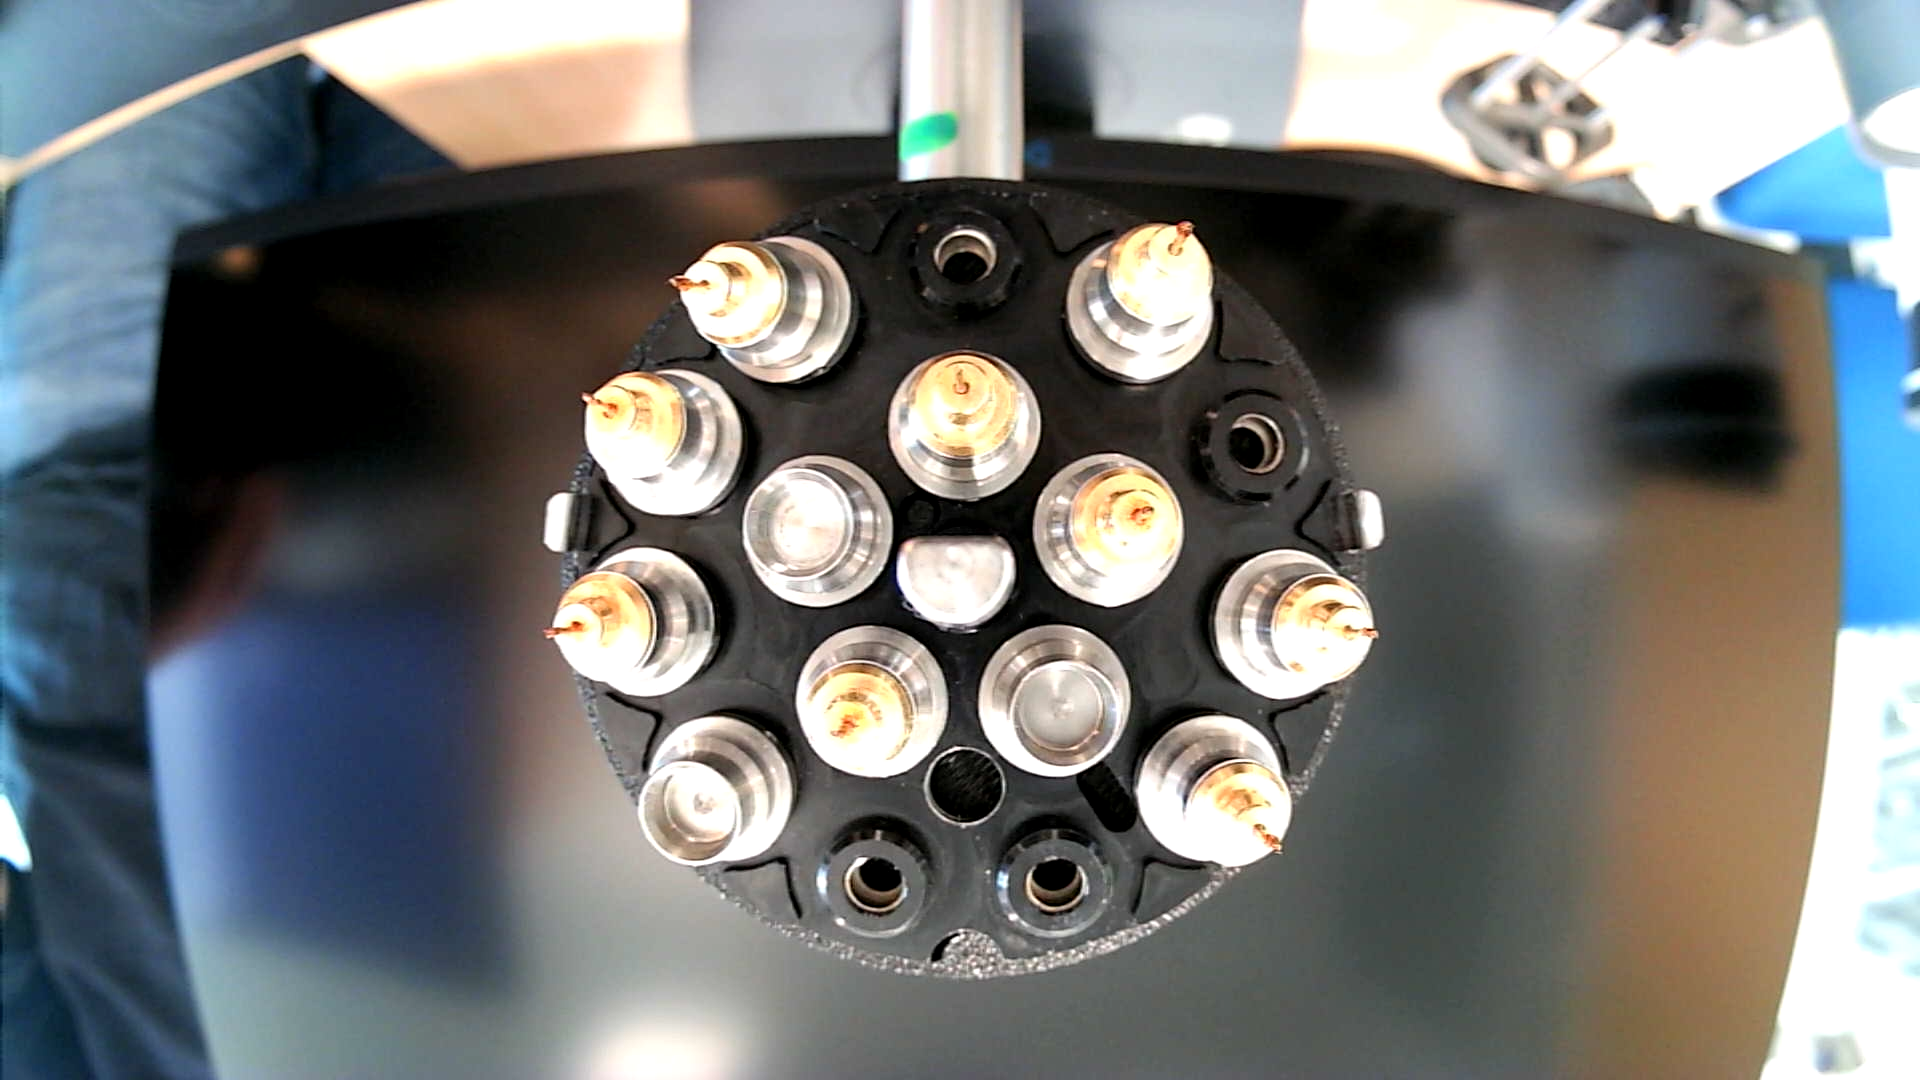adapter: (638, 716, 796, 876), (978, 622, 1133, 781), (740, 455, 894, 613)
empty: (810, 812, 943, 947), (895, 199, 1033, 327), (1182, 385, 1320, 510), (988, 818, 1120, 943)
hole: (922, 742, 1007, 832)
misplaced: (665, 235, 855, 386)
pin: (541, 545, 725, 702), (1207, 546, 1379, 703), (578, 364, 746, 522), (1064, 214, 1215, 385), (1135, 709, 1296, 868), (884, 345, 1044, 502), (793, 624, 952, 781), (1030, 448, 1184, 607)
rod: (894, 529, 1019, 637)
